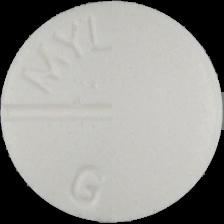55154-5588: (0, 0, 224, 224)
